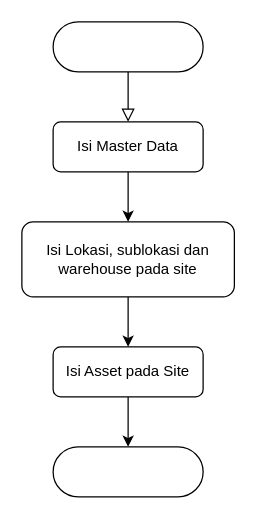
The diagram is 256 pixels wide and 519 high, and some of its shapes have lost their labels. The box of each missing label's shape, as (x1, y1, x2, y2) in pixels:
Login: (52, 21, 203, 72)
Selesai: (52, 446, 203, 497)
